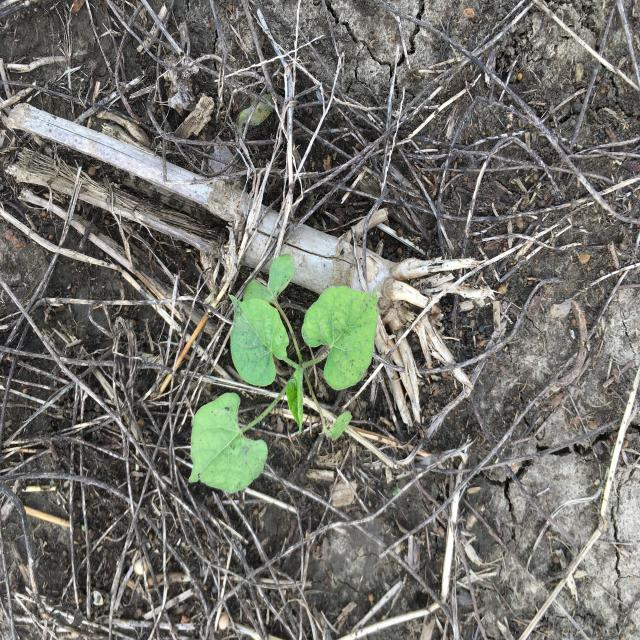MorningGlory: (187, 252, 382, 496)
